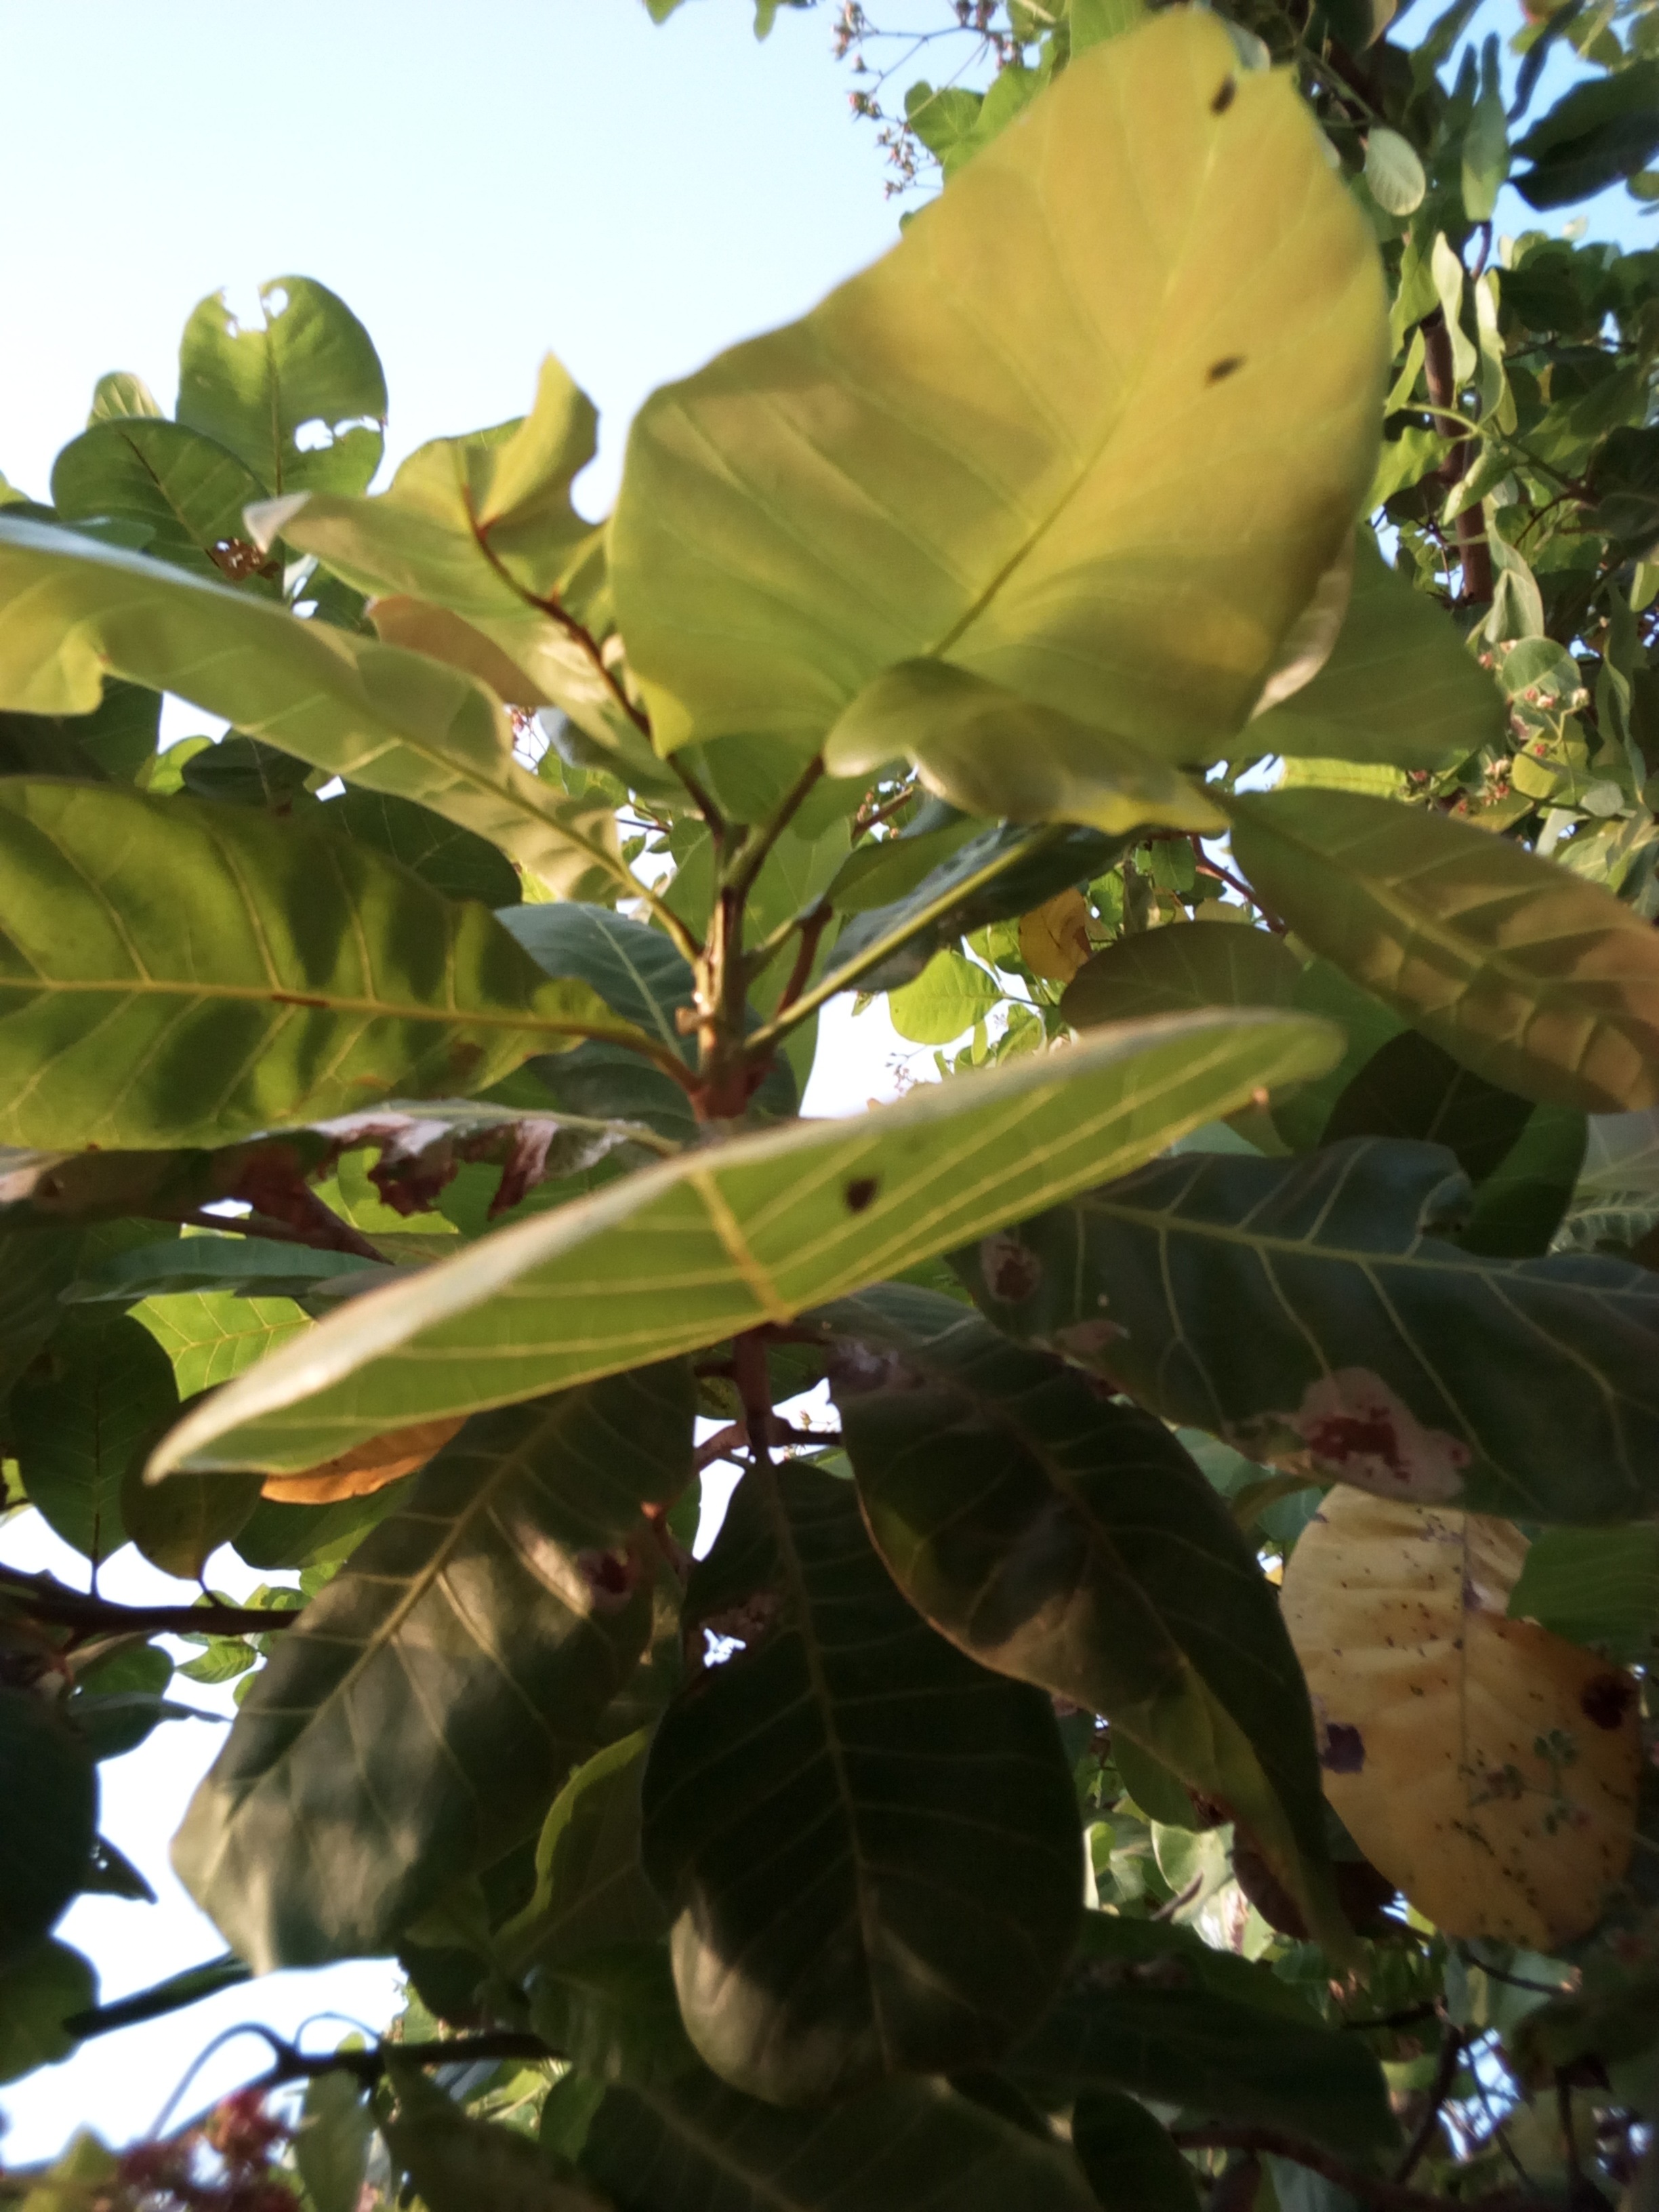Anthracnose: (1328, 1533, 1656, 1963)
